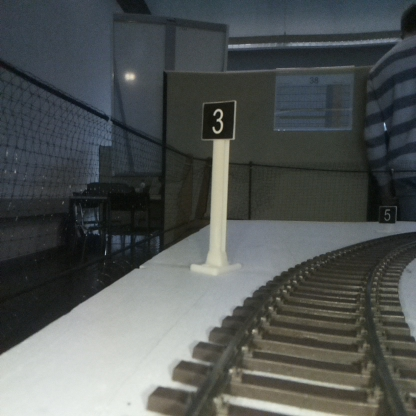black-info-3: (202, 102, 234, 271)
black-stop-5: (379, 206, 396, 232)
